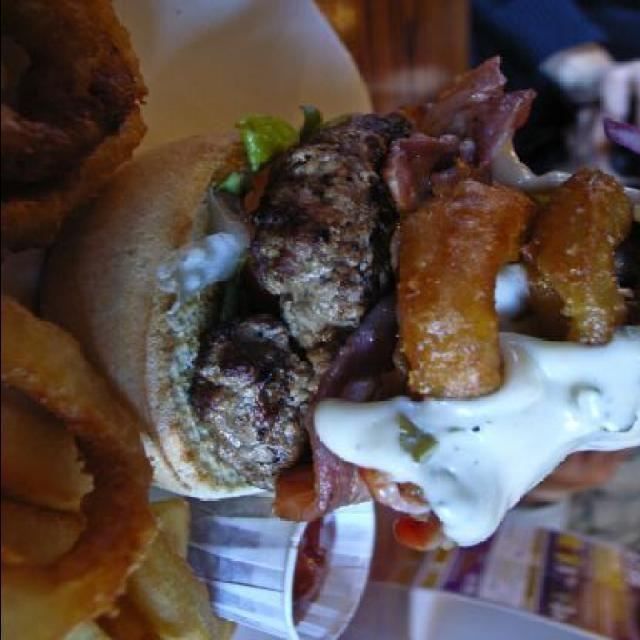Hamburger: (38, 55, 640, 551)
